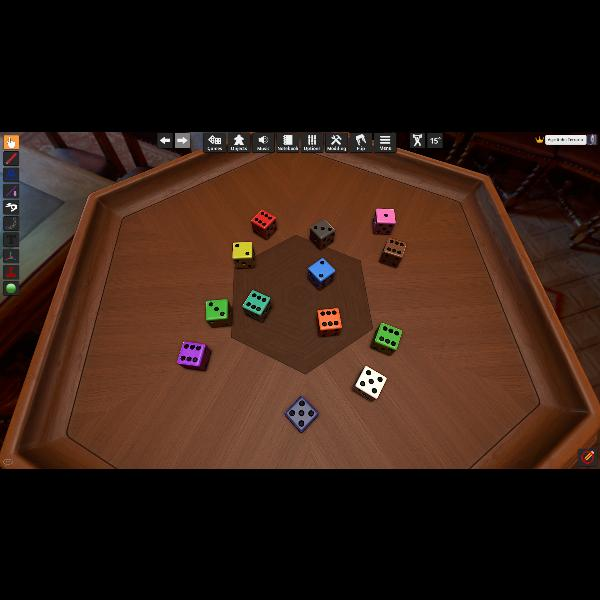d6: (352, 366, 386, 402), (284, 396, 314, 434), (372, 322, 403, 354), (177, 340, 210, 370), (241, 290, 271, 322), (380, 236, 406, 268), (250, 209, 276, 240), (308, 260, 334, 290), (309, 219, 334, 250), (205, 300, 231, 328), (317, 308, 341, 336), (372, 208, 396, 236), (232, 240, 255, 268)
